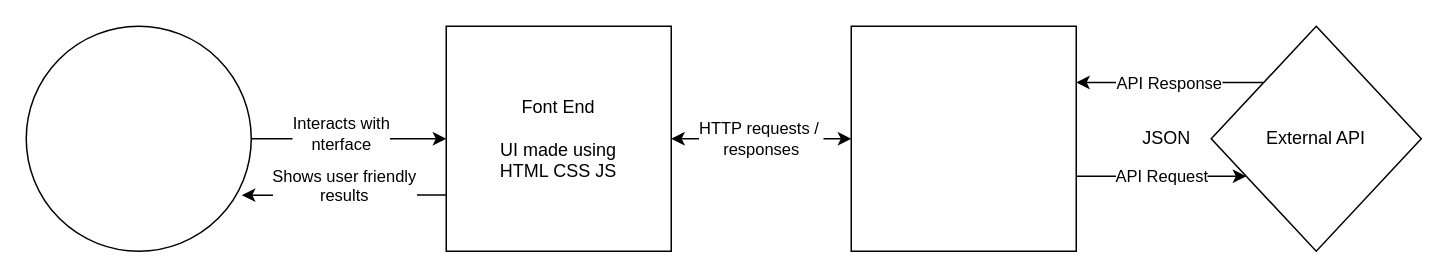
Image size: 1448x278. Some labels were removed from this diagram. The centre of each missing label's shape, as x and y in pixels:
Back End Made using Python on Flask: (963,138)
User: (138,138)
